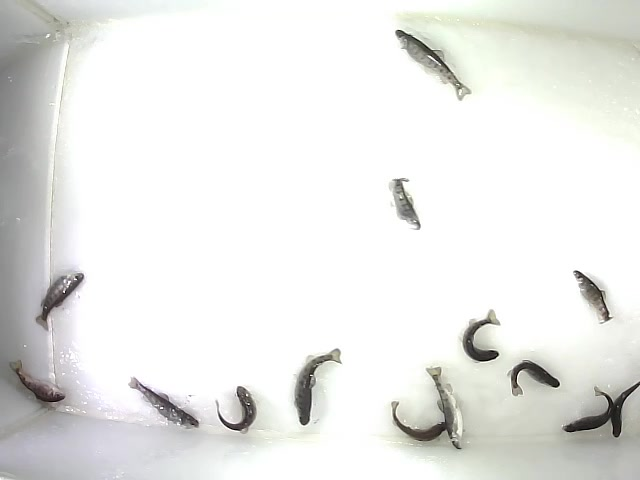fish: (394, 29, 473, 103), (293, 346, 344, 427), (127, 376, 201, 431), (425, 365, 464, 451), (34, 271, 85, 333), (8, 358, 67, 404), (562, 385, 616, 434), (390, 400, 449, 443), (458, 308, 503, 364), (572, 268, 615, 325), (506, 358, 562, 398), (215, 384, 258, 435), (386, 175, 422, 232), (610, 380, 640, 439)
